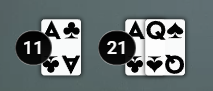a: (38, 18, 62, 43), (124, 18, 146, 42)
q: (144, 18, 167, 43)
